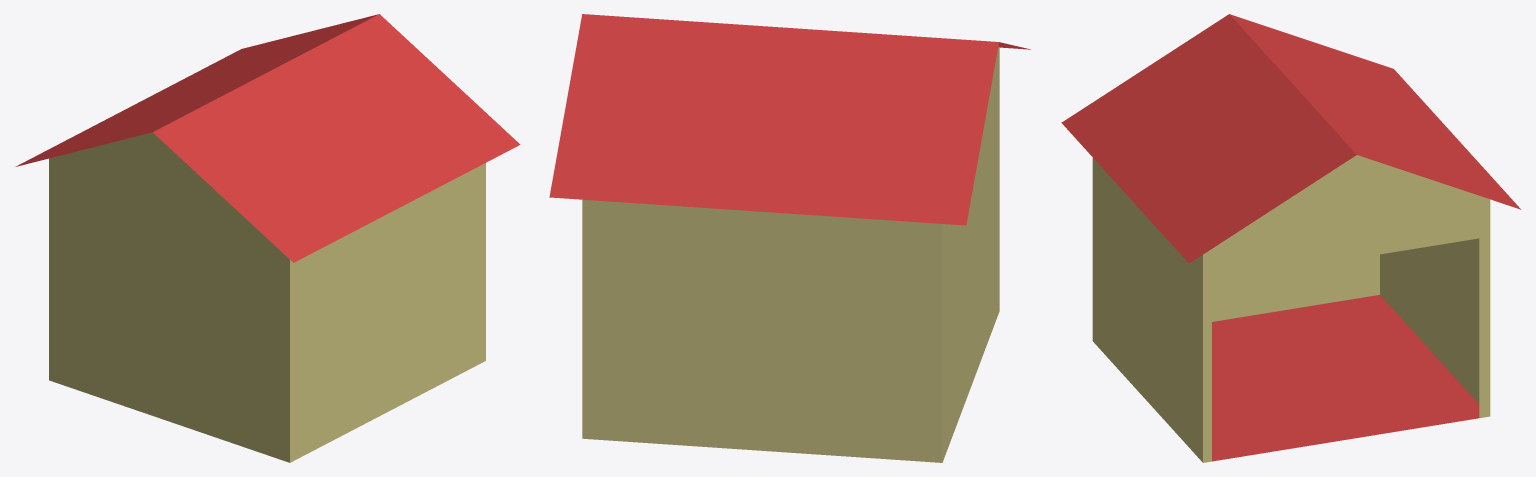
3 views of the same model, side by side, from view 1: azimuth 30°, elevation 25°; view 2: azimuth 150°, elevation 25°; view 3: azimuth 270°, elevation 25° (orthographic). The views are drawn at different scales.
Size of the model in its own units: 14.2 by 14.19 by 10.01.
